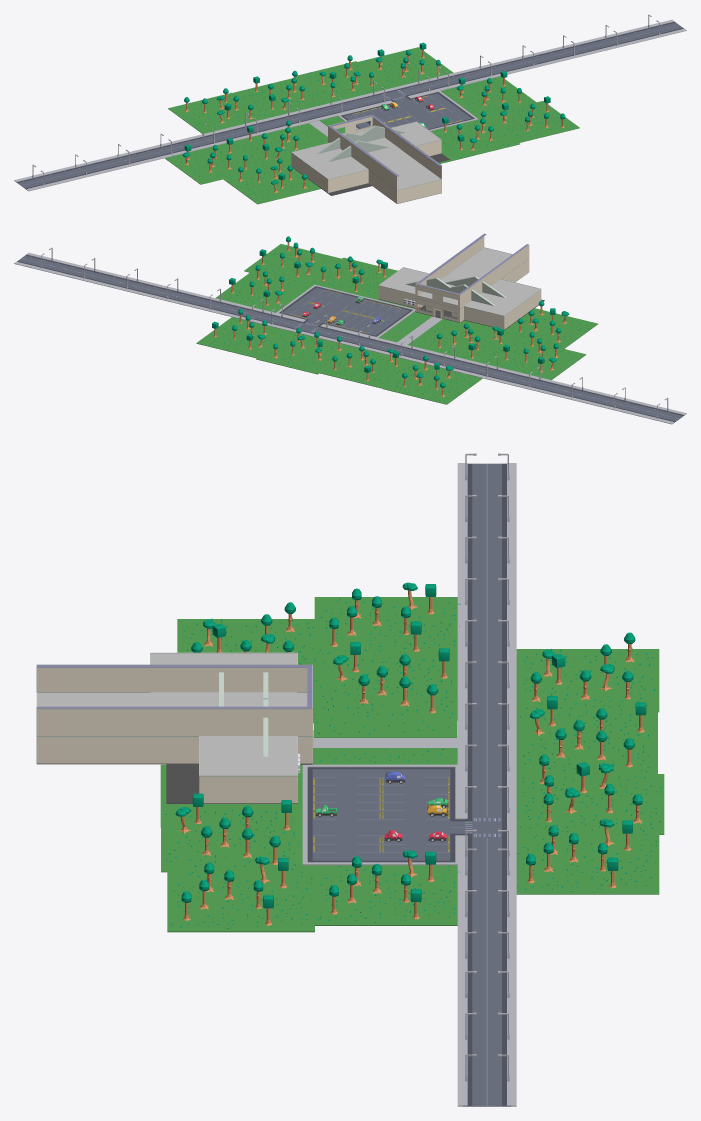
Rendered from Environment_NoGlass_optimized.glb.
3 views of the same model, one above another, from view 1: azimuth 30°, elevation 25°; view 2: azimuth 150°, elevation 25°; view 3: azimuth 270°, elevation 25° (orthographic). The views are drawn at different scales.
Parts seen in each view (by area): view 1: mergedBlocks(Clone); view 2: mergedBlocks(Clone); view 3: mergedBlocks(Clone).
Boxes of the visible parts, x1=… form: mergedBlocks(Clone): x1=14, y1=14, x2=686, y2=204; mergedBlocks(Clone): x1=14, y1=233, x2=686, y2=424; mergedBlocks(Clone): x1=36, y1=453, x2=664, y2=1106.
Bounding box in the file's own units: 309 × 12.9 × 128.
